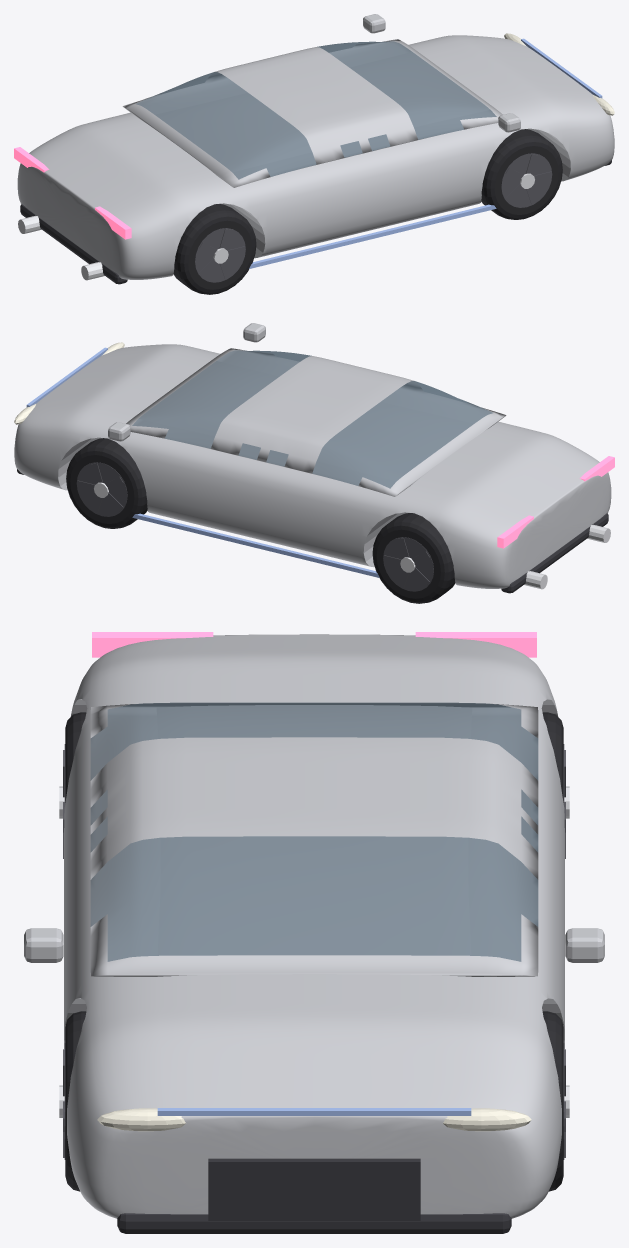
File: quantum_drift.fbx
3 views of the same model, one above another, from view 1: azimuth 30°, elevation 25°; view 2: azimuth 150°, elevation 25°; view 3: azimuth 270°, elevation 25° (orthographic). The views are drawn at different scales.
Parts seen in each view (by area): view 1: Body.018, Glass.018, Tire.018, Rim.018, Neon.007, Chrome.018, Trim.018, TailLight.018; view 2: Body.018, Glass.018, Tire.018, Rim.018, Neon.007, Chrome.018, Trim.018, TailLight.018; view 3: Body.018, Glass.018, Trim.018, Tire.018, HeadLight.018, TailLight.018, Neon.007, Rim.018.
Part boxes in pixels (x1=…): Body.018: x1=17, y1=14, x2=614, y2=279; Glass.018: x1=136, y1=41, x2=496, y2=179; Tire.018: x1=173, y1=129, x2=562, y2=294; Rim.018: x1=195, y1=153, x2=552, y2=282; Neon.007: x1=249, y1=38, x2=602, y2=268; Chrome.018: x1=18, y1=173, x2=534, y2=280; Trim.018: x1=20, y1=160, x2=611, y2=284; TailLight.018: x1=14, y1=147, x2=131, y2=239; Body.018: x1=14, y1=323, x2=611, y2=588; Glass.018: x1=132, y1=350, x2=492, y2=488; Tire.018: x1=66, y1=438, x2=455, y2=603; Rim.018: x1=76, y1=462, x2=433, y2=591; Neon.007: x1=26, y1=347, x2=379, y2=577; Chrome.018: x1=94, y1=482, x2=610, y2=589; Trim.018: x1=17, y1=469, x2=608, y2=593; TailLight.018: x1=497, y1=456, x2=614, y2=548; Body.018: x1=24, y1=634, x2=604, y2=1218; Glass.018: x1=90, y1=702, x2=538, y2=961; Trim.018: x1=117, y1=1158, x2=511, y2=1233; Tire.018: x1=65, y1=712, x2=563, y2=1191; HeadLight.018: x1=97, y1=1108, x2=531, y2=1131; TailLight.018: x1=92, y1=632, x2=536, y2=657; Neon.007: x1=157, y1=1108, x2=471, y2=1115; Rim.018: x1=63, y1=744, x2=565, y2=1159.
Size of the model in its own units: 1641 by 380 by 804.
